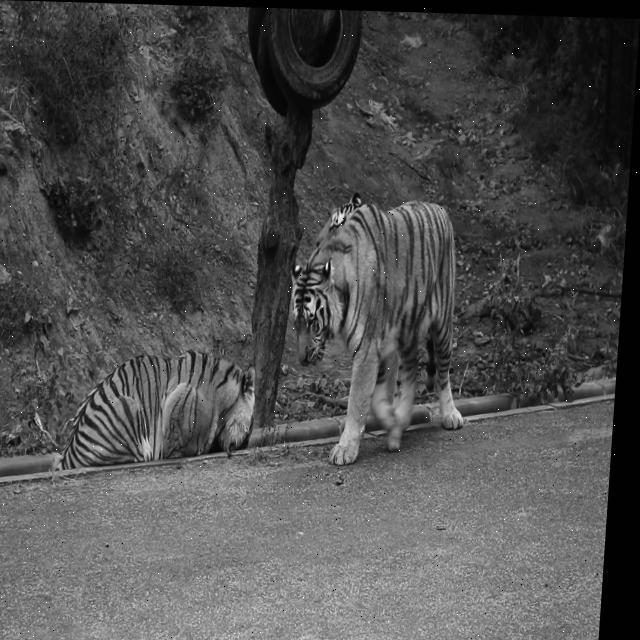Tiger: (277, 189, 479, 470), (55, 345, 259, 478)
